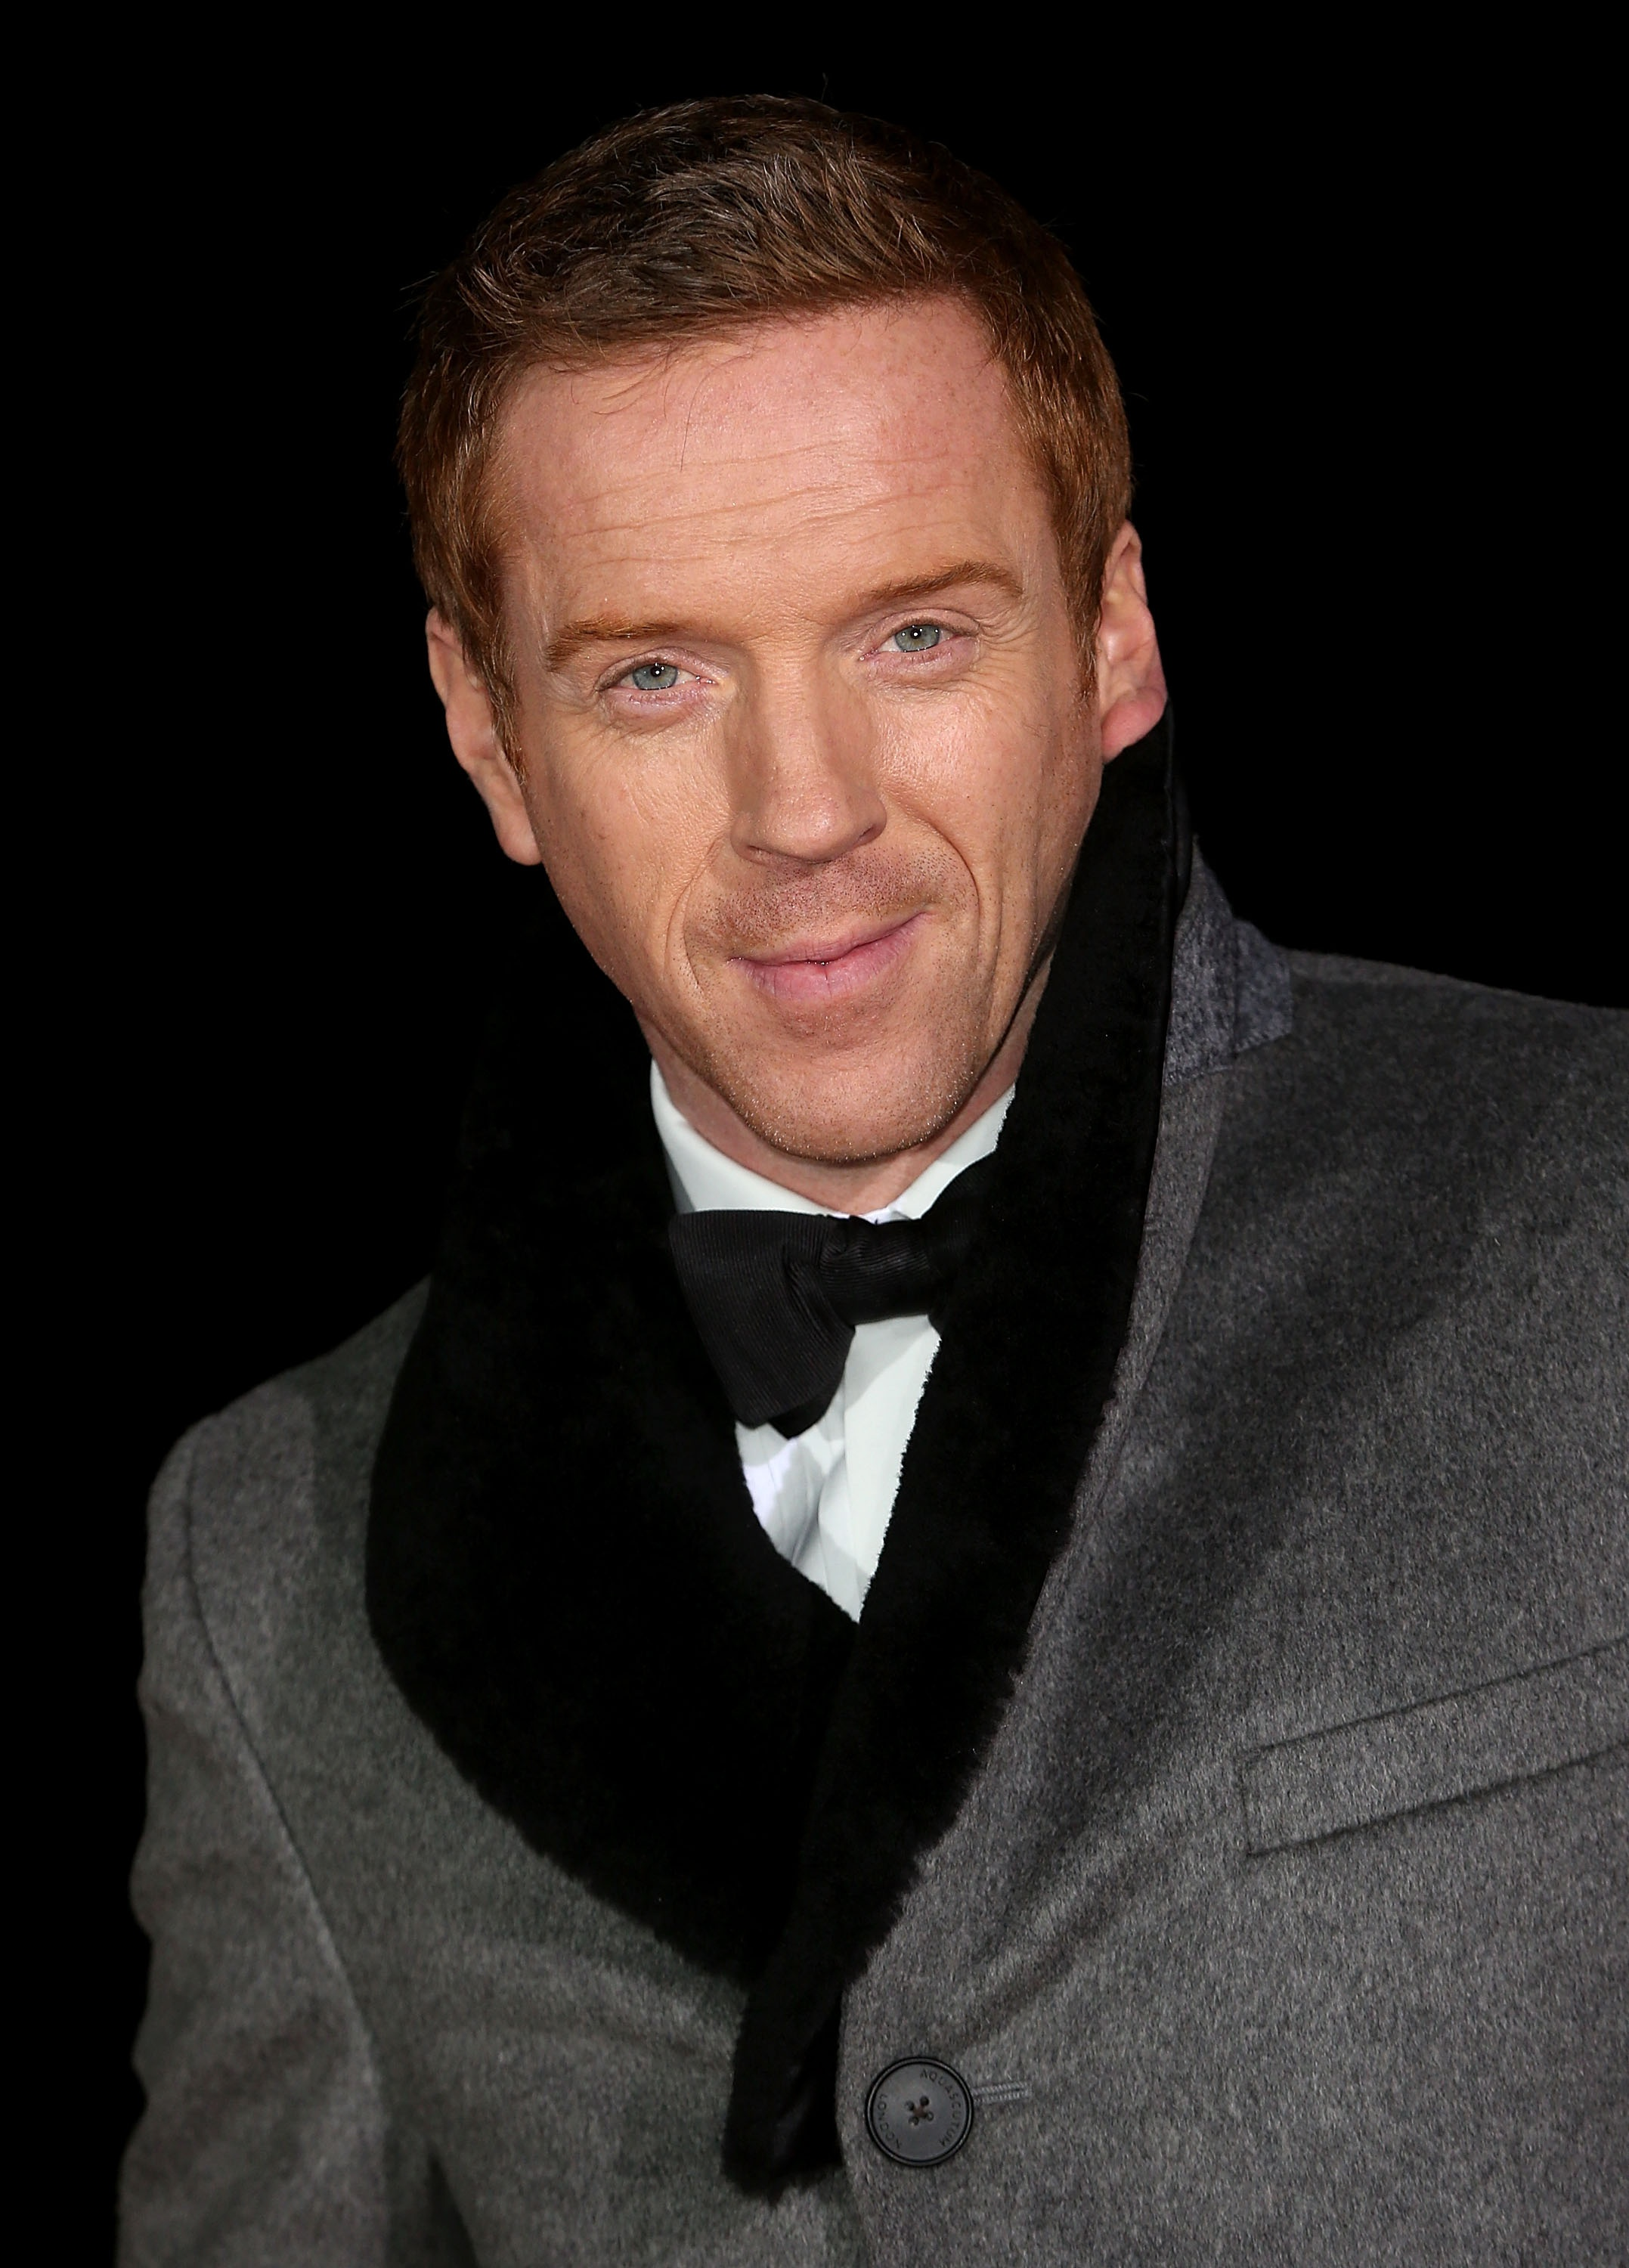bad: (523, 523, 1127, 1127)
